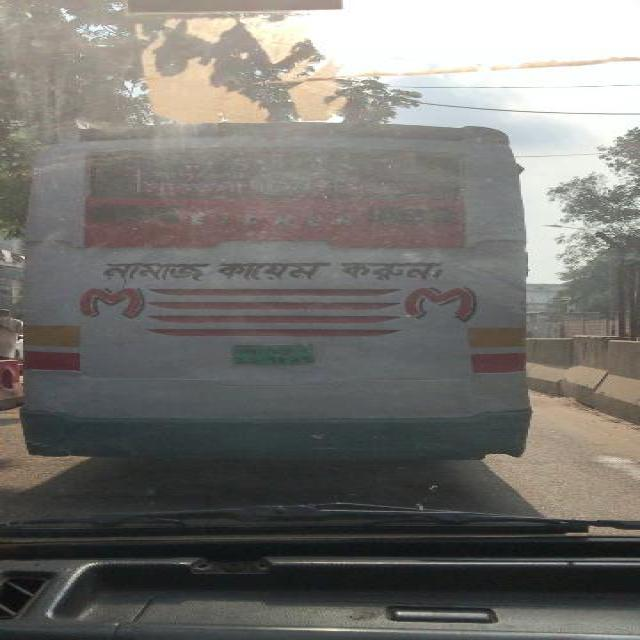Truck: (2, 116, 548, 488)
